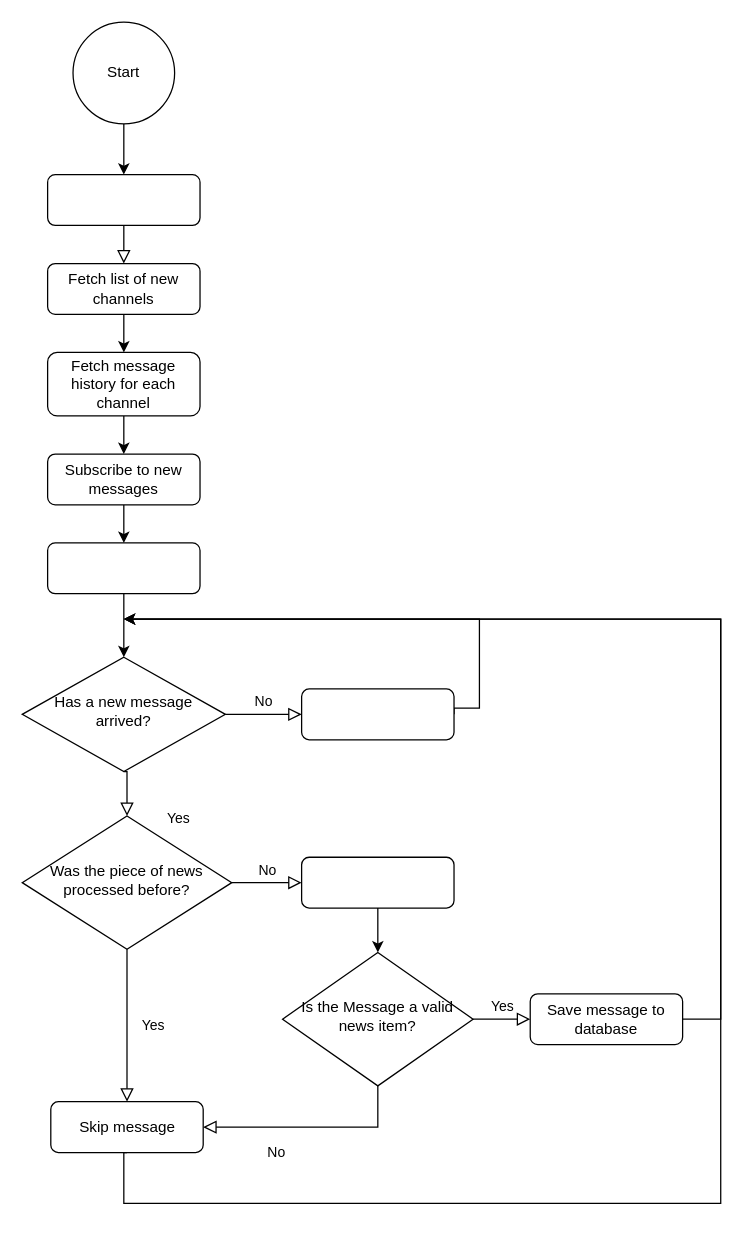
The diagram is 753 pixels wide and 1236 high, and some of its shapes have lost their labels. Here are the shapes that lost their labels. From the top down, the box of each, then its label:
(46, 173, 200, 225): Initialize Telegram API Client
(46, 542, 200, 594): Start message procession
(300, 688, 454, 740): Wait for message arrival event
(300, 856, 454, 908): Analyze message with AI module
